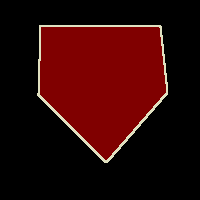tie: (38, 25, 167, 162)
